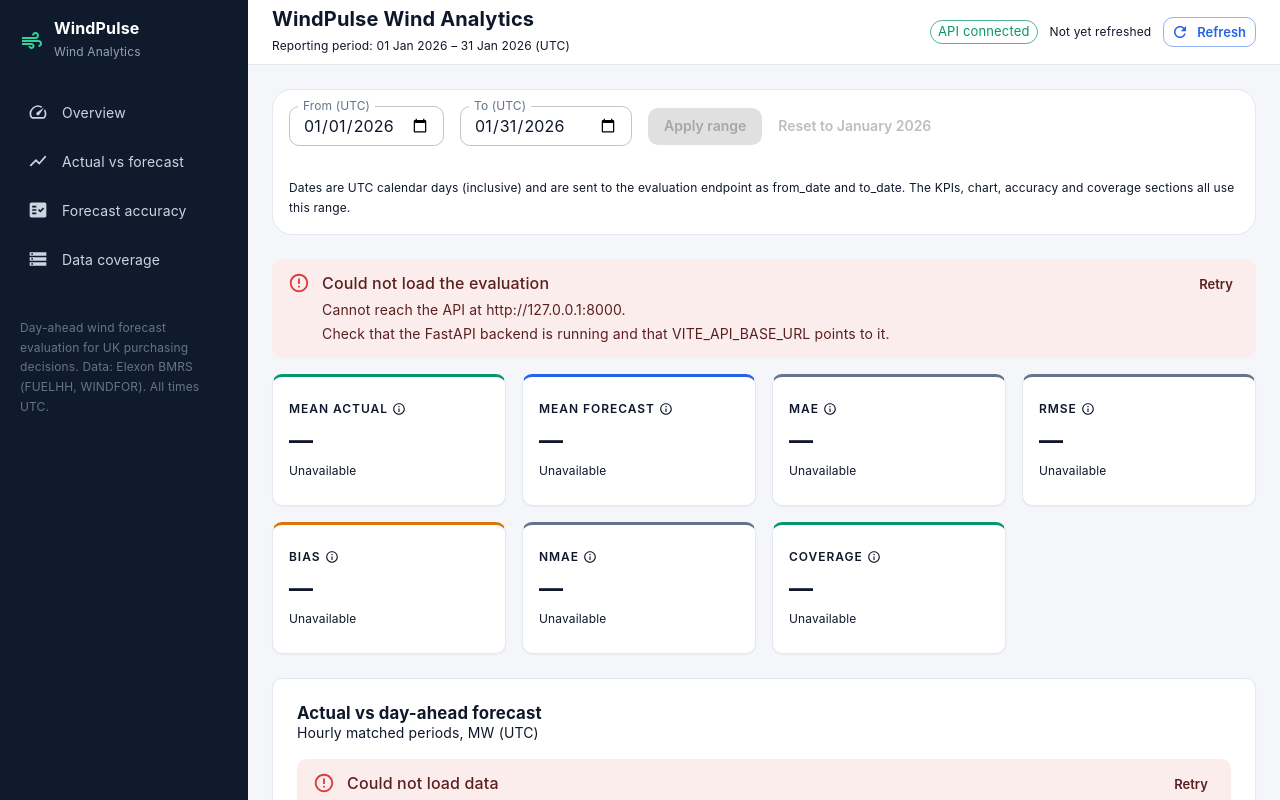
Scenario: live KPI cards › shows an error state and retries
What coordinates should you click on to do the following:
click the button "Retry" in the row of "Could not load the evaluation"
I would click on:
 (1216, 284)
Its box is [1184,269,1248,300].
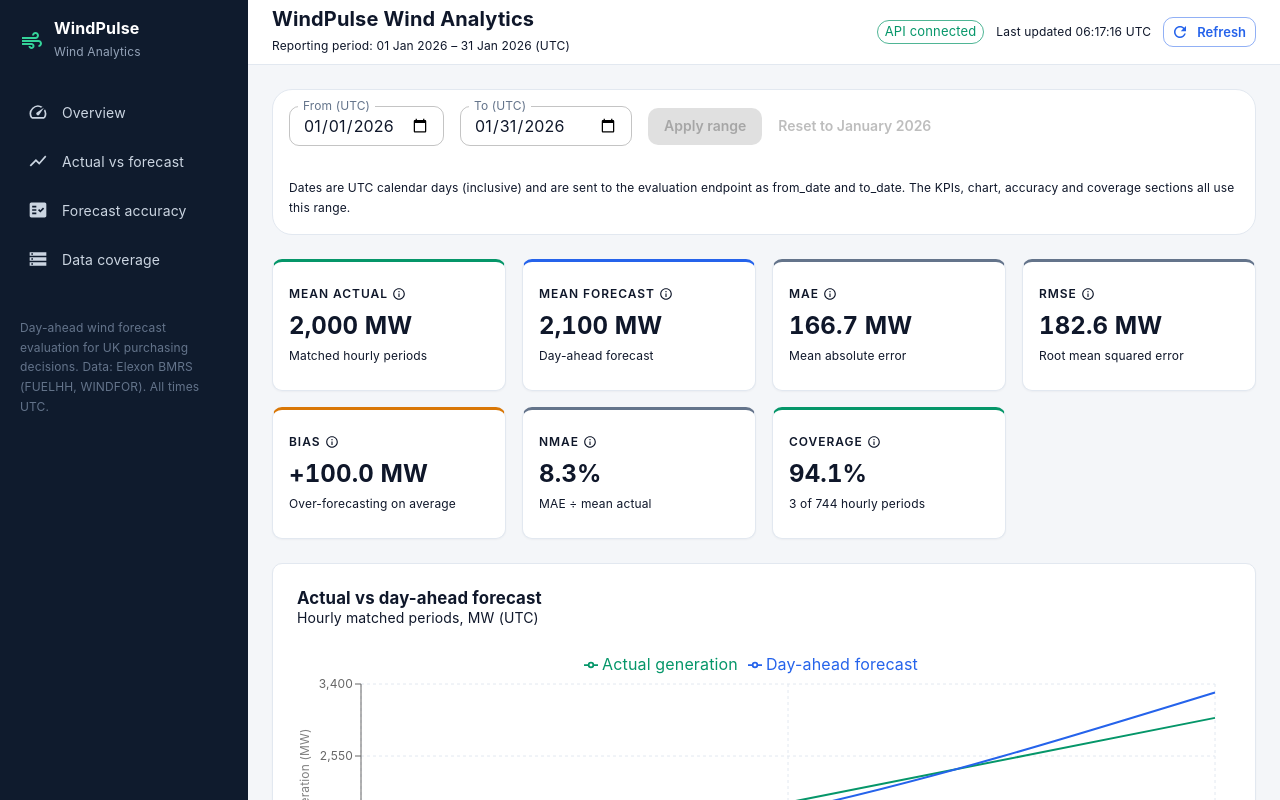
Expected: the text "2,000 MW" is shown, [289,311,412,340]
